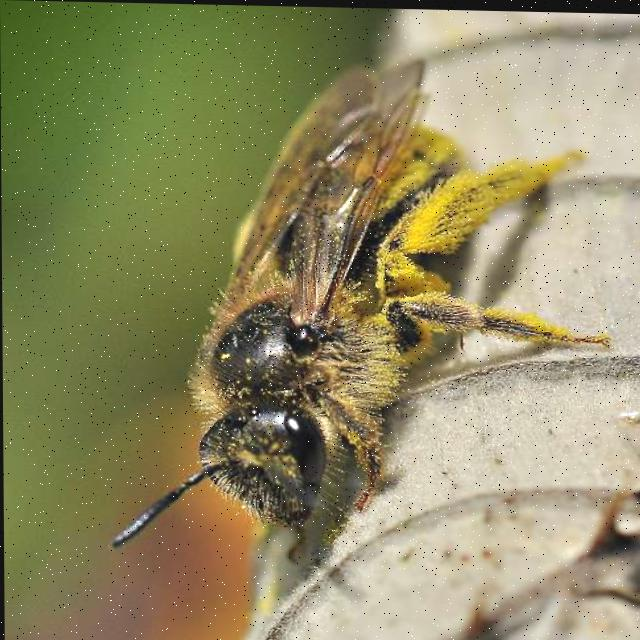Meliponula: (122, 41, 573, 568)
